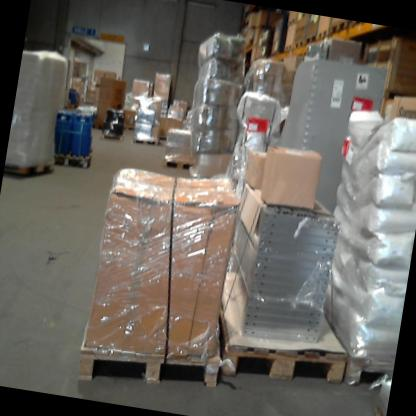pallet: (198, 258, 362, 393), (71, 292, 229, 404), (307, 295, 403, 394), (4, 149, 58, 182), (52, 140, 95, 170), (301, 26, 321, 53), (99, 128, 126, 145), (130, 133, 160, 147), (162, 158, 190, 173), (327, 18, 349, 37), (315, 26, 330, 46), (291, 39, 305, 53), (88, 123, 105, 131), (286, 16, 297, 27), (121, 124, 135, 132), (269, 49, 280, 59), (283, 42, 292, 53), (158, 135, 167, 143)
